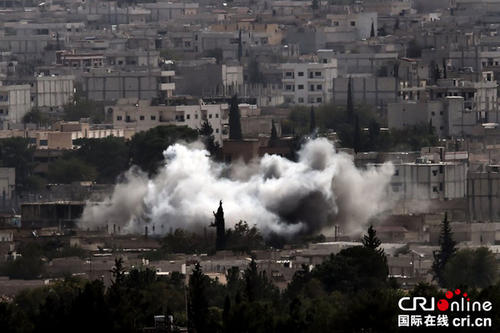smoke: (125, 137, 392, 244)
